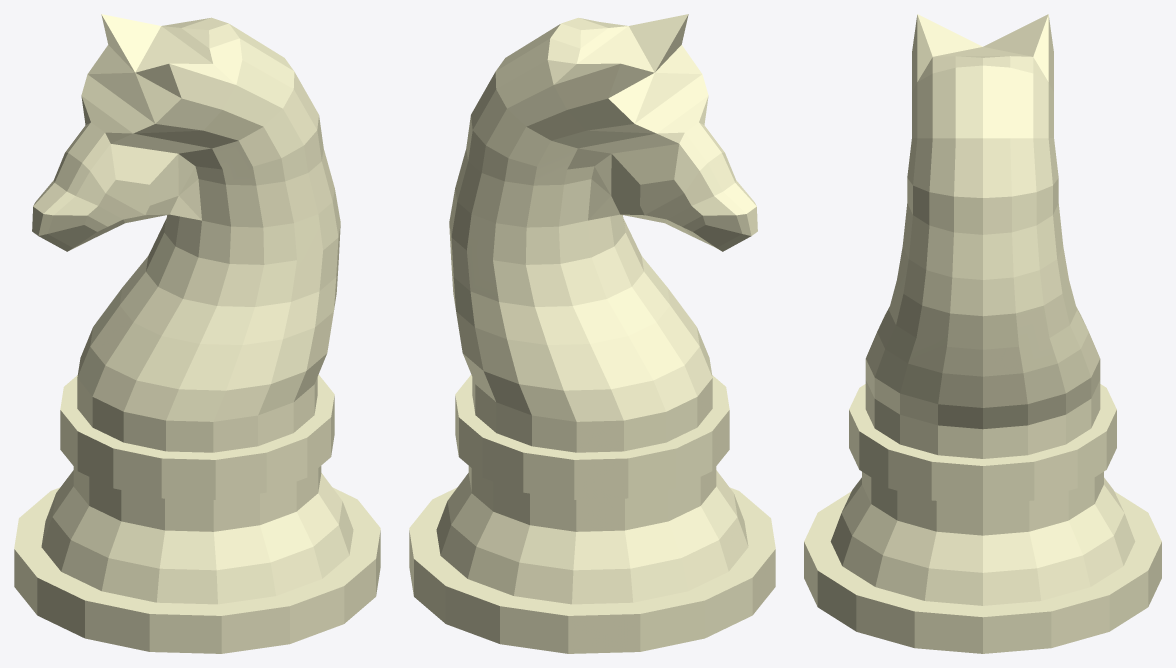
The model's file is knight.obj.
3 views of the same model, side by side, from view 1: azimuth 30°, elevation 25°; view 2: azimuth 150°, elevation 25°; view 3: azimuth 270°, elevation 25° (orthographic). The views are drawn at different scales.
Parts seen in each view (by area): view 1: Cylinder.007_Cylinder.014; view 2: Cylinder.007_Cylinder.014; view 3: Cylinder.007_Cylinder.014.
Part boxes in pixels (x1,y1,x2,y2): Cylinder.007_Cylinder.014: [14, 14, 380, 653]; Cylinder.007_Cylinder.014: [409, 14, 775, 653]; Cylinder.007_Cylinder.014: [804, 14, 1161, 653].
Size of the model in its own units: 1.34 by 2.2 by 1.34.
Materials: 1 (1 with a texture image).
